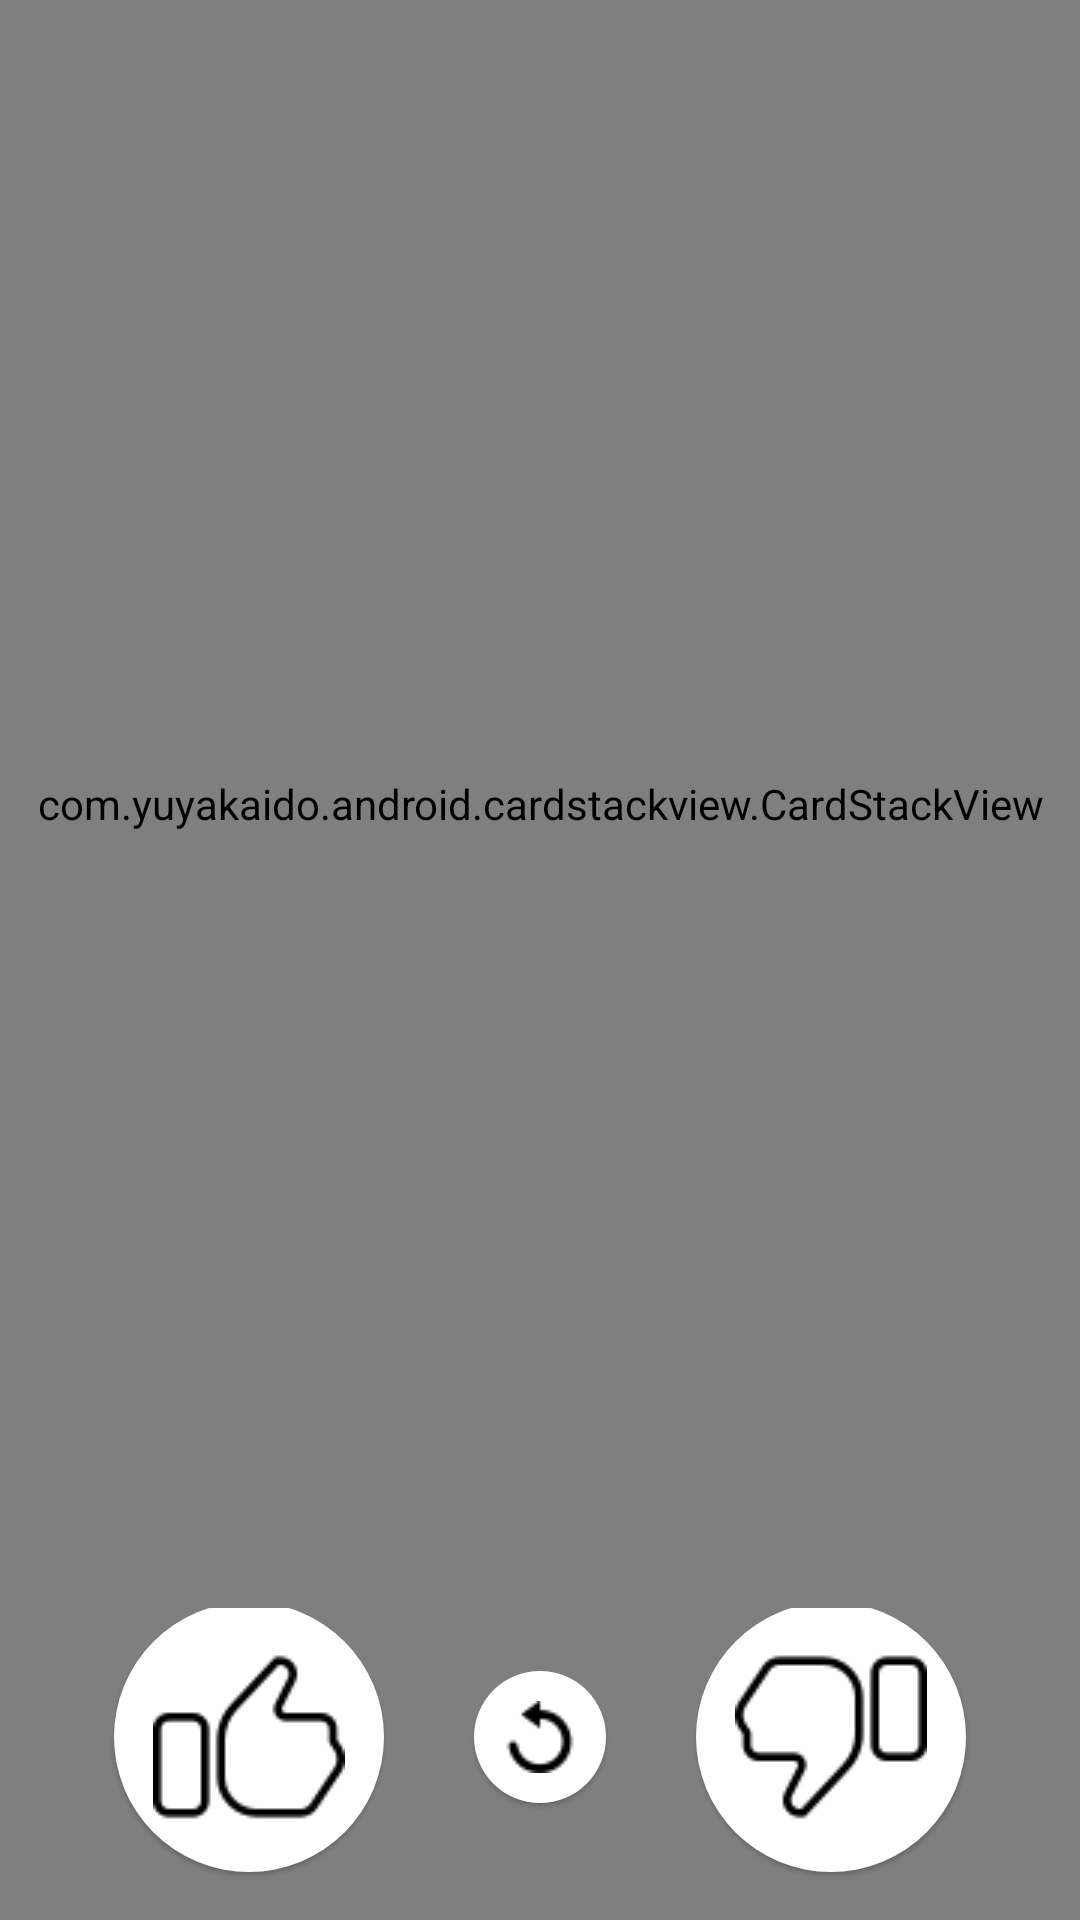

Icons on this 1080×1920 Android screen, each with the point to tap as (x,y):
dislike: (831,1740)
like: (249,1740)
reload: (540,1737)
